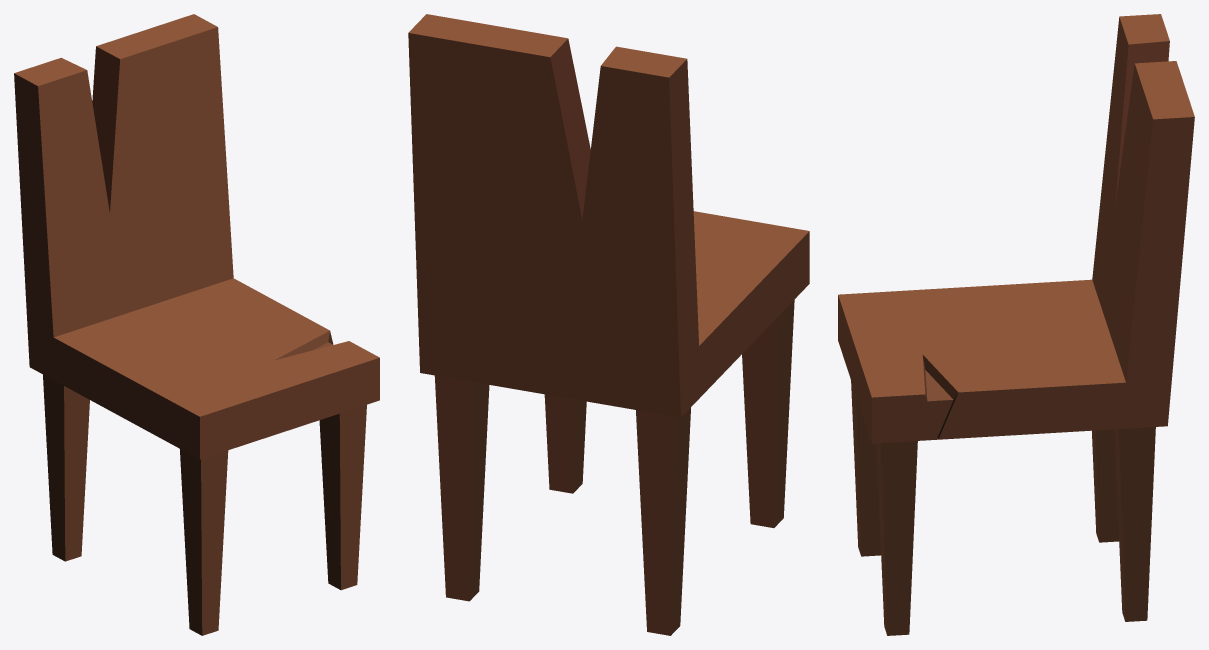
File: AI_Prop_Chair_Damaged_02.fbx
The picture shows the model from 3 angles, left to right: view 1: azimuth 30°, elevation 25°; view 2: azimuth 150°, elevation 25°; view 3: azimuth 270°, elevation 25°; orthographic projection. The views are drawn at different scales.
Parts seen in each view (by area): view 1: AI_Prop_Chair_Damaged_02; view 2: AI_Prop_Chair_Damaged_02; view 3: AI_Prop_Chair_Damaged_02.
Part boxes in pixels (box(x1,y1,x2,y2)): AI_Prop_Chair_Damaged_02: box(14, 14, 379, 635); AI_Prop_Chair_Damaged_02: box(408, 14, 809, 635); AI_Prop_Chair_Damaged_02: box(838, 14, 1194, 635).
Size of the model in its own units: 0.9965 by 1.94 by 1.23.
